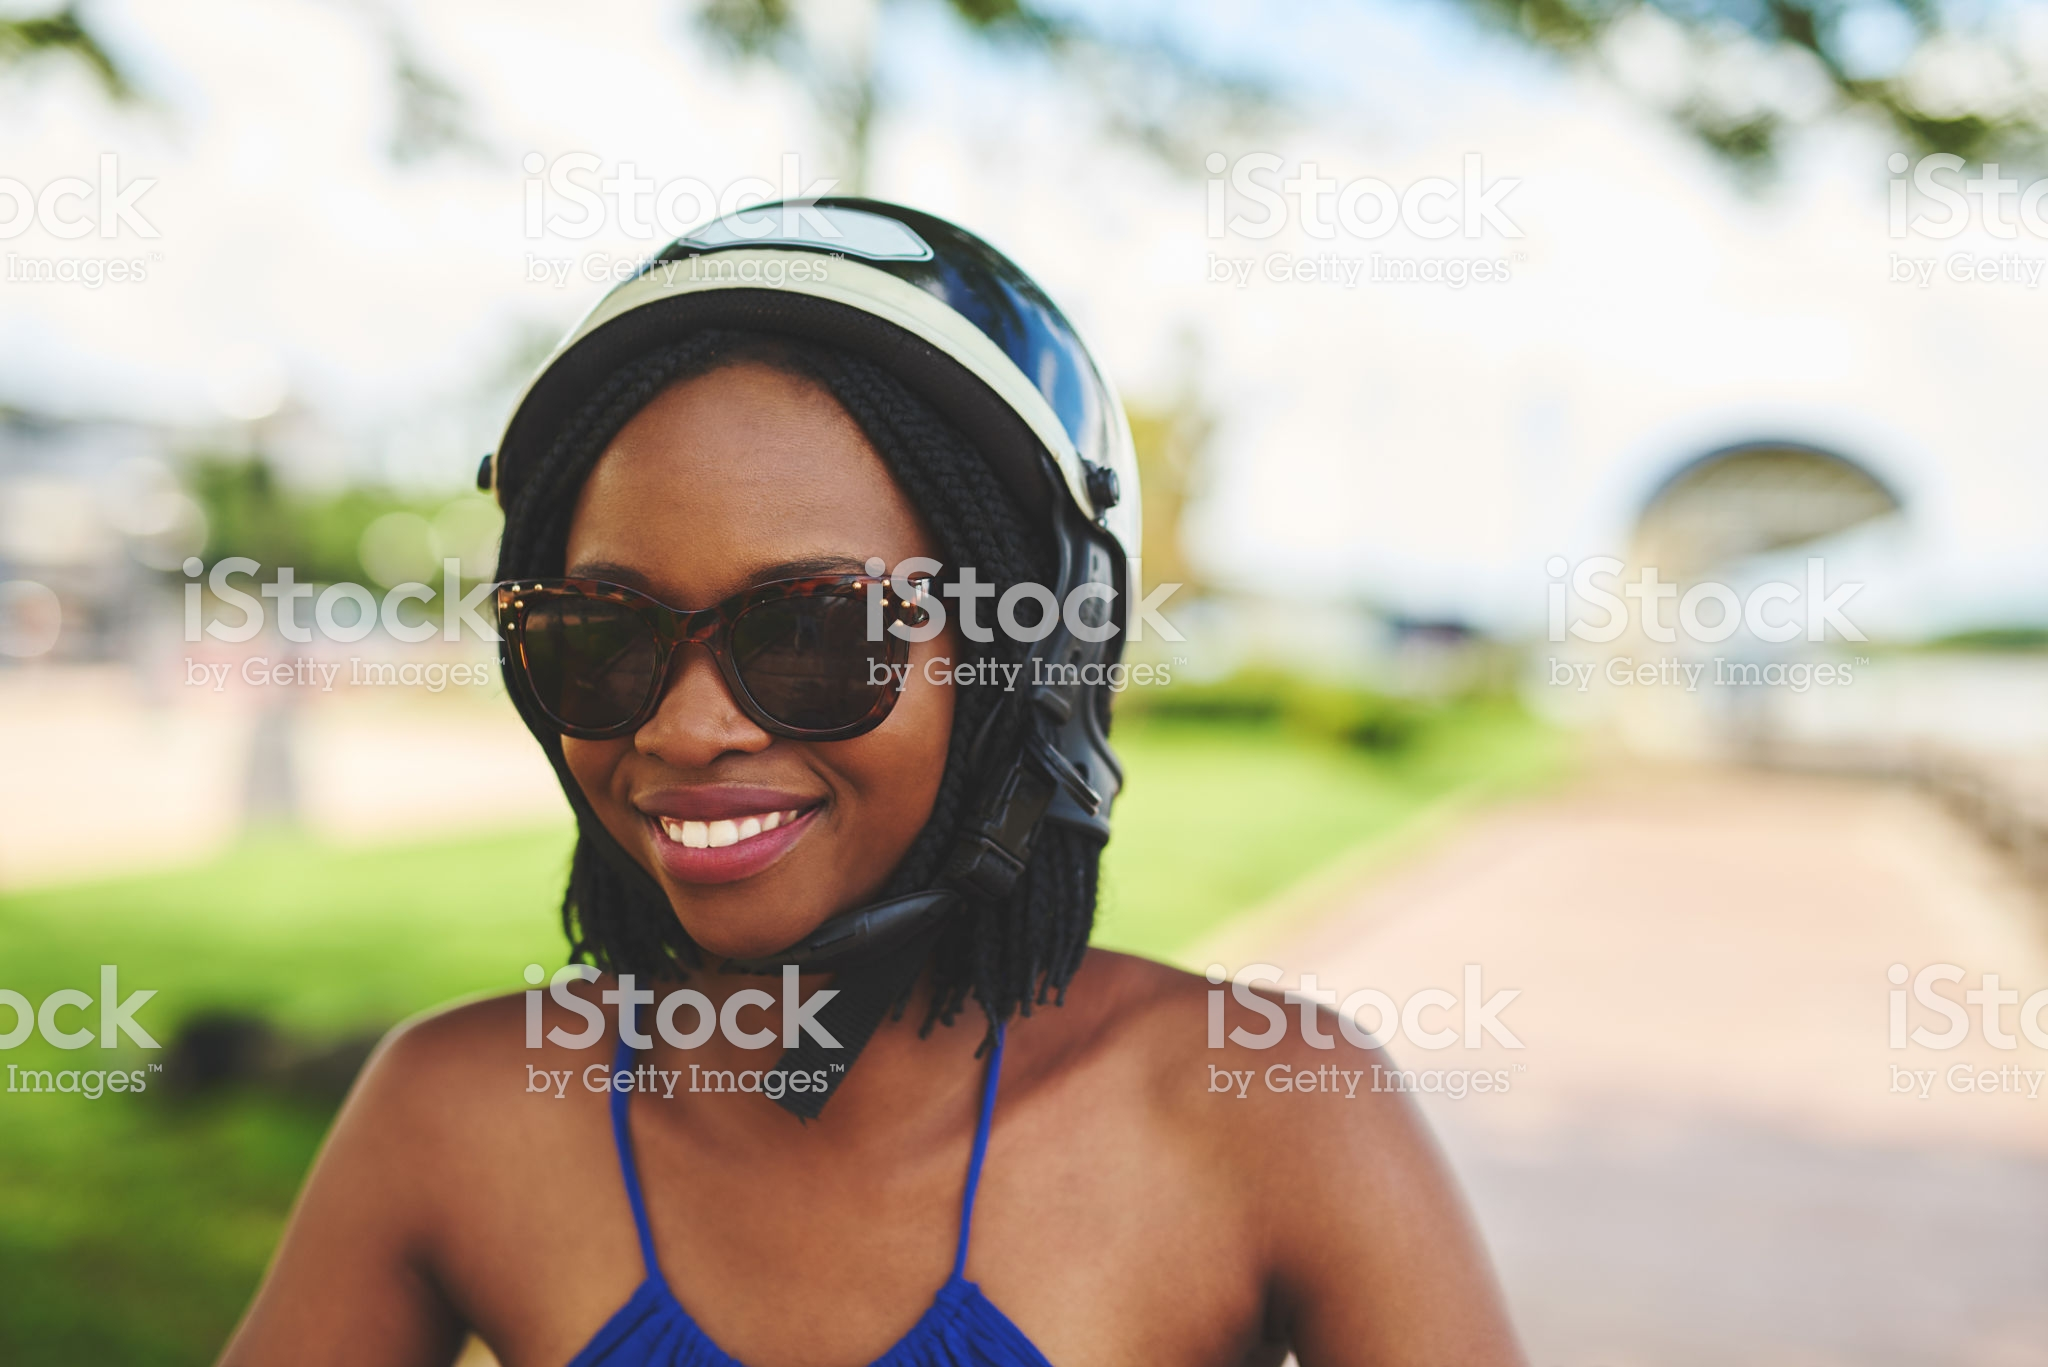helmet: (474, 168, 1212, 577)
